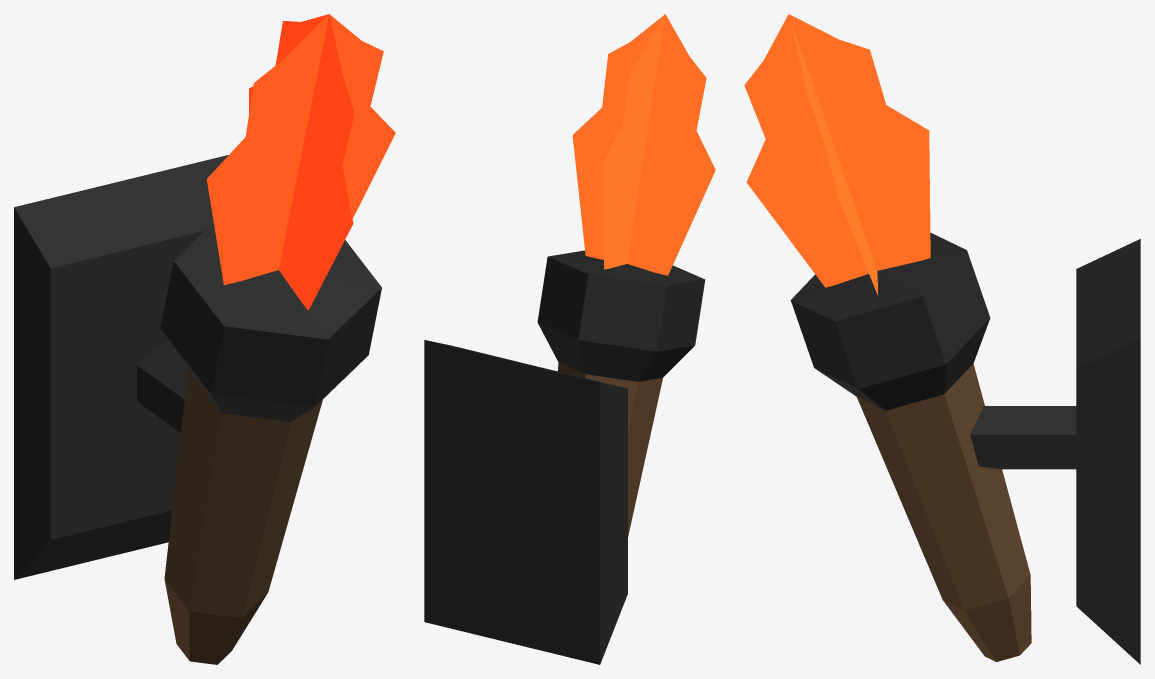
The model's file is fantasy-torche-wall.glb.
3 renders of one model, left to right at view 1: azimuth 30°, elevation 25°; view 2: azimuth 150°, elevation 25°; view 3: azimuth 270°, elevation 25°, orthographic. The views are drawn at different scales.
Visible parts, largest first — view 1: torche-wall; view 2: torche-wall; view 3: torche-wall.
Part boxes in pixels (box(x1,y1,x2,y2)): torche-wall: box(14, 14, 395, 664); torche-wall: box(424, 14, 715, 664); torche-wall: box(744, 14, 1140, 664).
Size of the model in its own units: 0.22 by 0.6629 by 0.3706.
